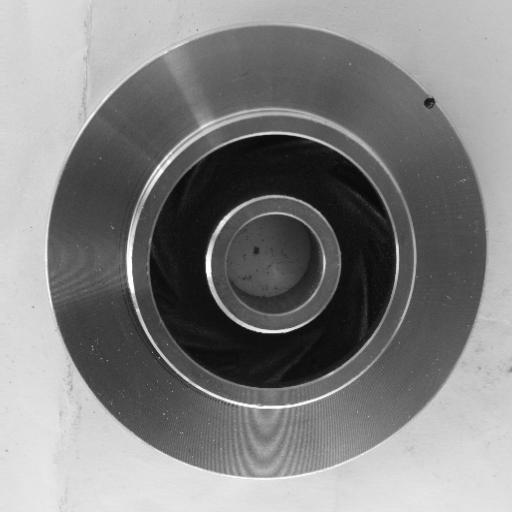pit: (418, 87, 446, 118)
unpolished_casting: (47, 26, 487, 481)
